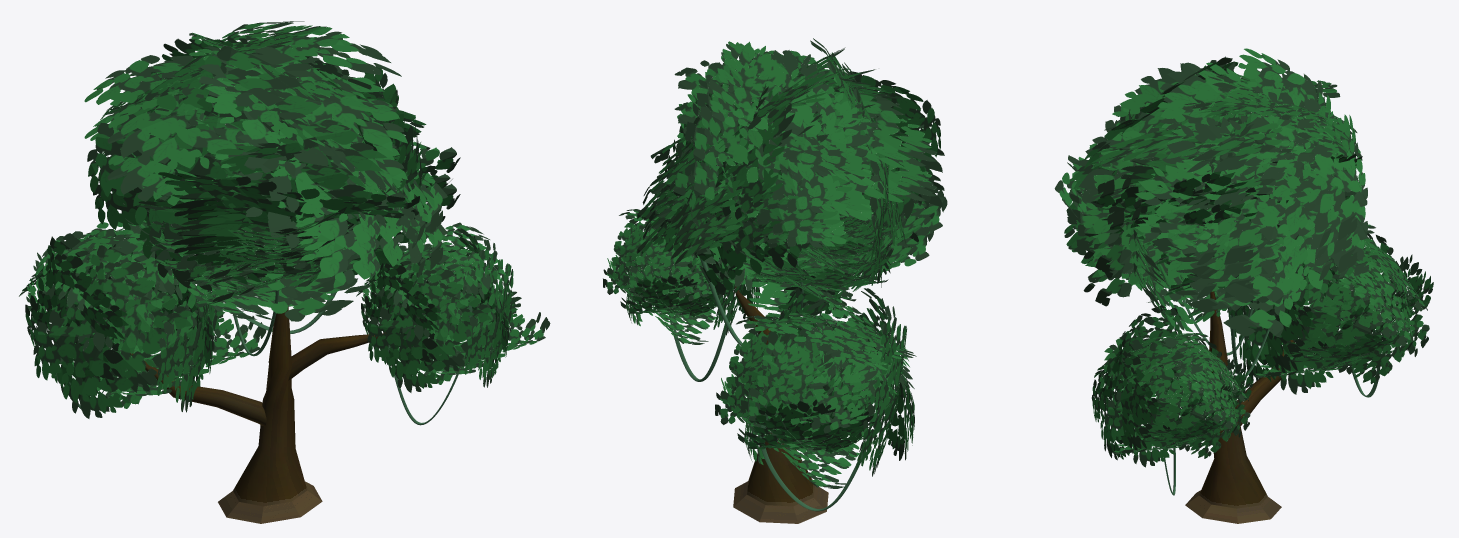
Rendered from jungle tree 3.fbx.
The picture shows the model from 3 angles, left to right: view 1: azimuth 30°, elevation 25°; view 2: azimuth 150°, elevation 25°; view 3: azimuth 270°, elevation 25°; orthographic projection. The views are drawn at different scales.
Visible parts, largest first — view 1: group47_pasted__pasted__sweep3_pasted__polySurface189; view 2: group47_pasted__pasted__sweep3_pasted__polySurface189; view 3: group47_pasted__pasted__sweep3_pasted__polySurface189.
Part boxes in pixels (box(x1,y1,x2,y2)): group47_pasted__pasted__sweep3_pasted__polySurface189: box(19, 21, 550, 523); group47_pasted__pasted__sweep3_pasted__polySurface189: box(603, 38, 947, 523); group47_pasted__pasted__sweep3_pasted__polySurface189: box(1054, 48, 1433, 523).
Size of the model in its own units: 5.96 by 6.22 by 5.18.
Materials: 8 (6 with a texture image).
